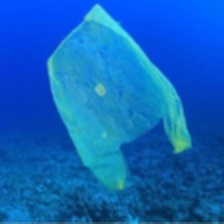plastic_bag: (41, 1, 197, 197)
